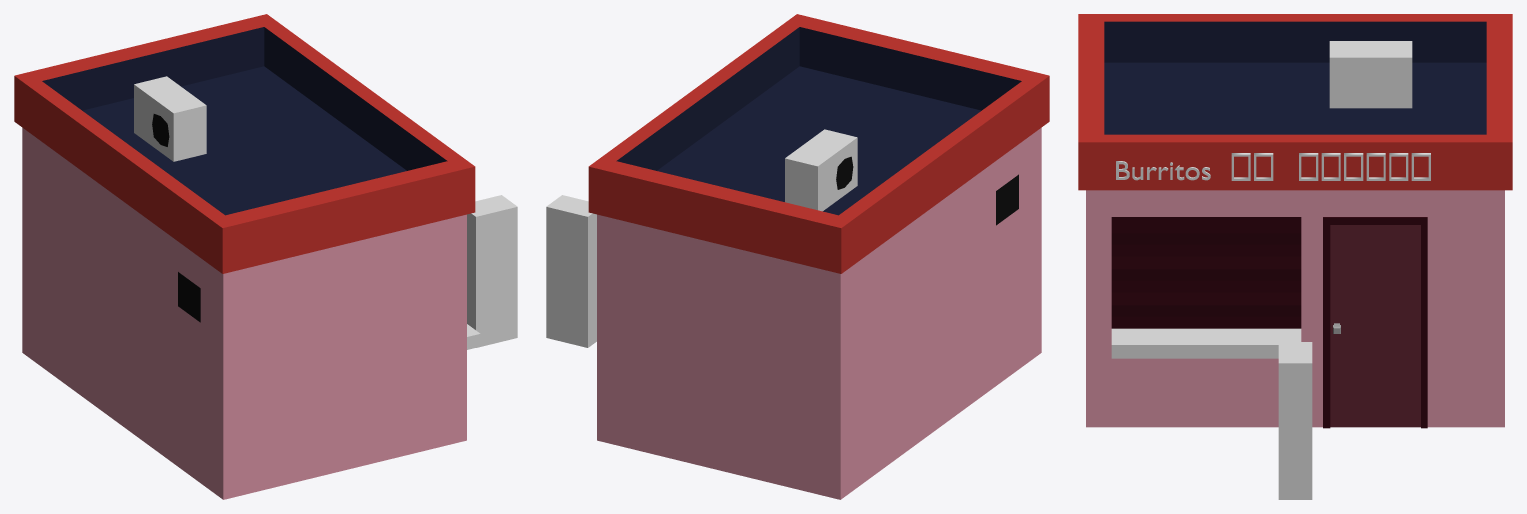
The model's file is Burritos.fbx.
3 renders of one model, left to right at view 1: azimuth 30°, elevation 25°; view 2: azimuth 150°, elevation 25°; view 3: azimuth 270°, elevation 25°, orthographic. The views are drawn at different scales.
Parts seen in each view (by area): view 1: Cube, Cube.001; view 2: Cube, Cube.001; view 3: Cube, Cube.001, Text.001, Text.
Boxes of the visible parts, <box> form: Cube: <box>14,14,480,499</box>; Cube.001: <box>467,195,517,347</box>; Cube: <box>588,14,1049,499</box>; Cube.001: <box>546,195,596,347</box>; Cube: <box>1078,14,1512,428</box>; Cube.001: <box>1278,342,1312,499</box>; Text.001: <box>1231,153,1430,180</box>; Text: <box>1116,161,1210,180</box>.
Bounding box in the file's own units: 1124 × 781 × 1037.
